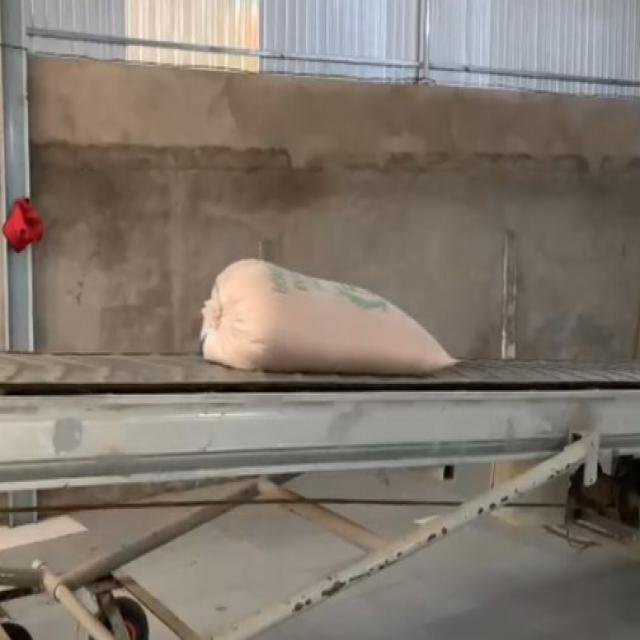gunny_bag: (202, 259, 456, 374)
